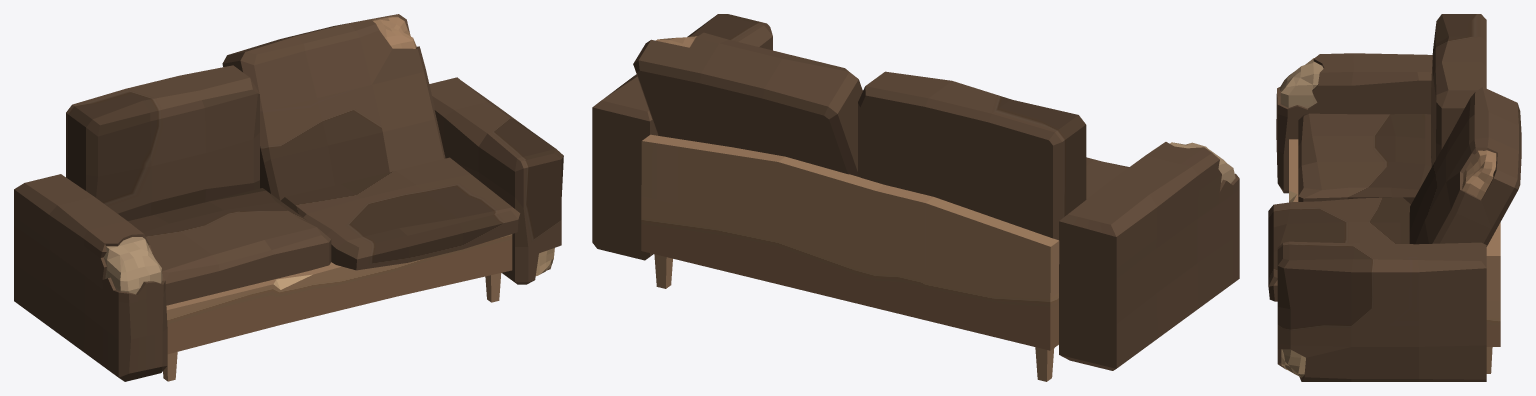
File: SM_Sofa_A.fbx
The picture shows the model from 3 angles, left to right: view 1: azimuth 30°, elevation 25°; view 2: azimuth 150°, elevation 25°; view 3: azimuth 270°, elevation 25°; orthographic projection. The views are drawn at different scales.
Parts seen in each view (by area): view 1: SM_Sofa; view 2: SM_Sofa; view 3: SM_Sofa.
Boxes of the visible parts, bbox=[...] form: SM_Sofa: bbox=[14, 14, 563, 381]; SM_Sofa: bbox=[592, 14, 1239, 381]; SM_Sofa: bbox=[1268, 14, 1521, 381].
Size of the model in its own units: 279 by 130 by 140.
